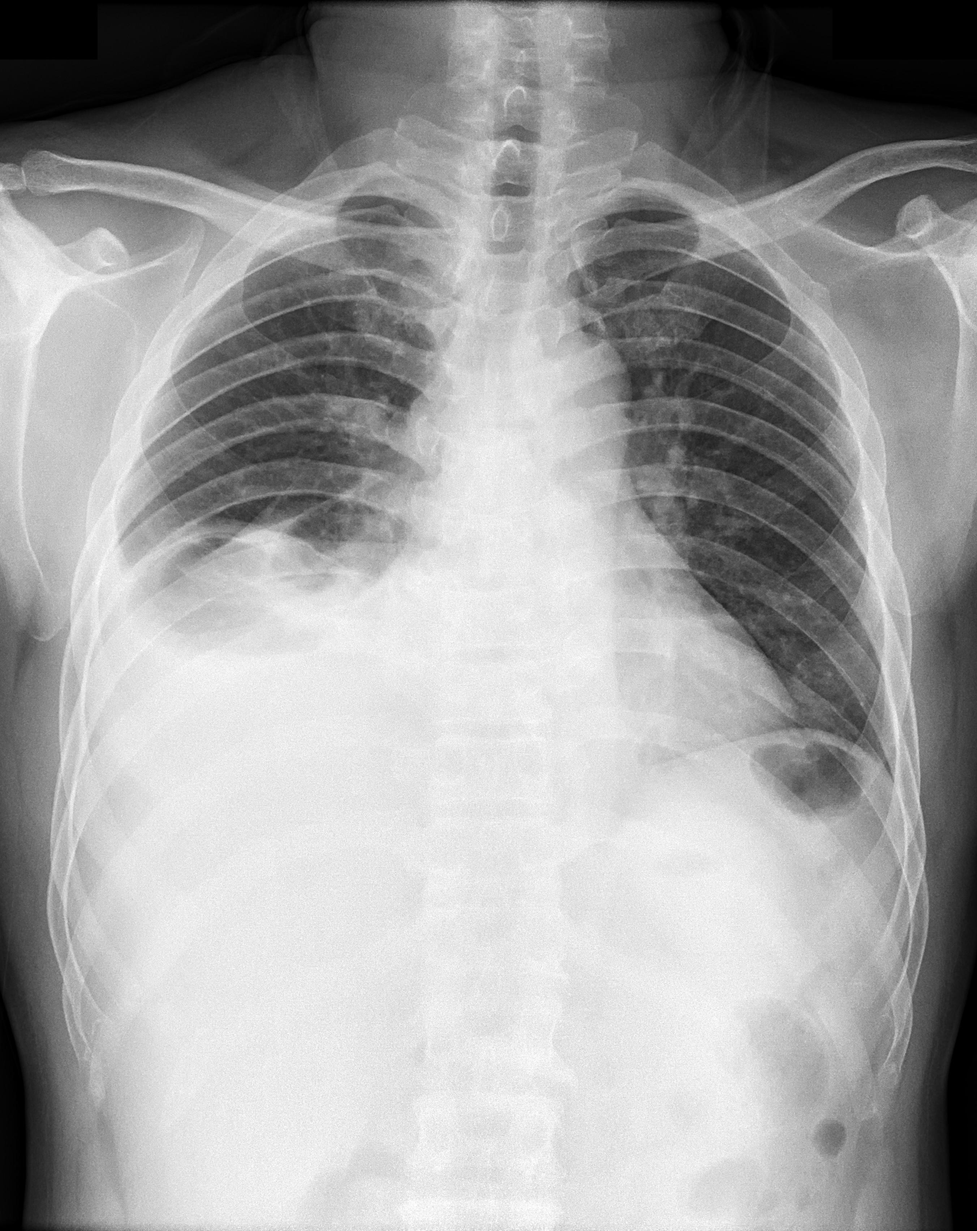Pulmonary fibrosis: (136, 522, 353, 630)
